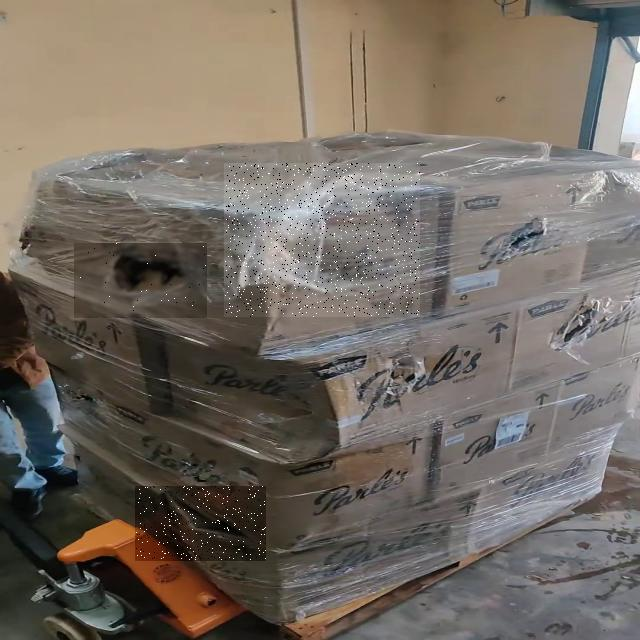leakage: (75, 244, 207, 317)
squeeze: (225, 164, 420, 317)
tear: (137, 486, 266, 560)
